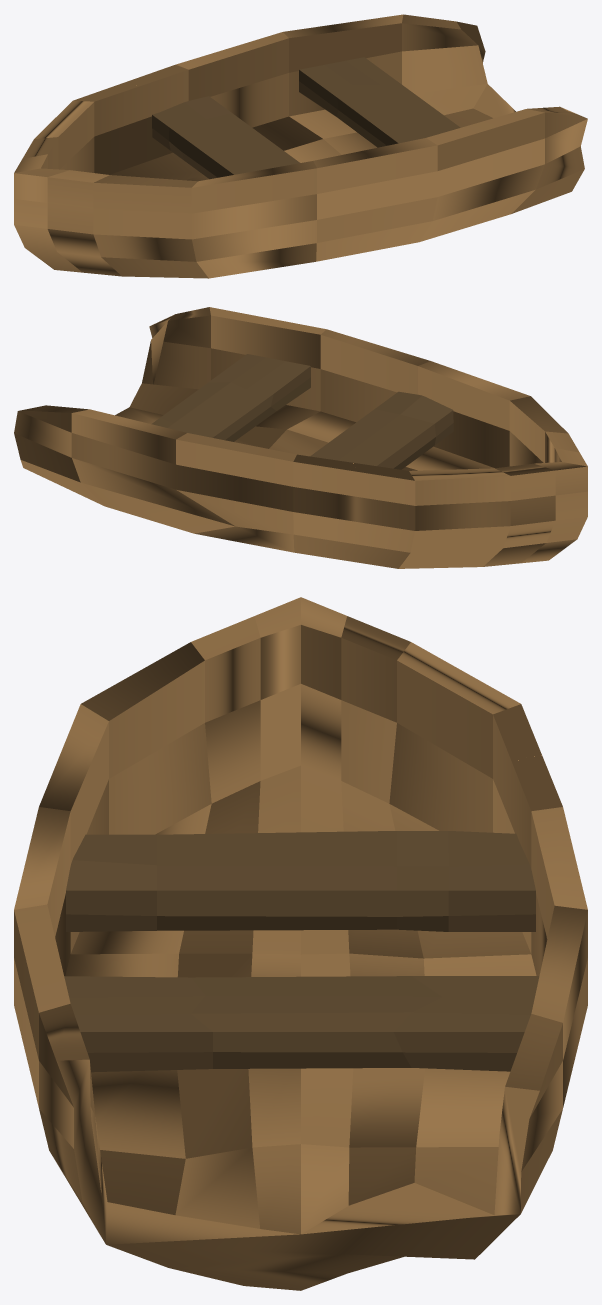
Rendered from Boot kaputt.fbx.
The picture shows the model from 3 angles, top to bottom: view 1: azimuth 30°, elevation 25°; view 2: azimuth 150°, elevation 25°; view 3: azimuth 270°, elevation 25°; orthographic projection. The views are drawn at different scales.
Visible parts, largest first — view 1: Boot, Sitz_II, Sitz_I; view 2: Boot, Sitz_II, Sitz_I; view 3: Boot, Sitz_I, Sitz_II.
Boxes of the visible parts, x1,y1,x2,y2 form: Boot: (14, 14, 587, 278); Sitz_II: (299, 57, 460, 147); Sitz_I: (152, 96, 299, 179); Boot: (14, 307, 587, 568); Sitz_II: (151, 354, 310, 441); Sitz_I: (310, 391, 453, 469); Boot: (14, 597, 587, 1290); Sitz_I: (66, 831, 535, 931); Sitz_II: (64, 976, 539, 1072).
Bounding box in the file's own units: 752 × 172 × 378.
